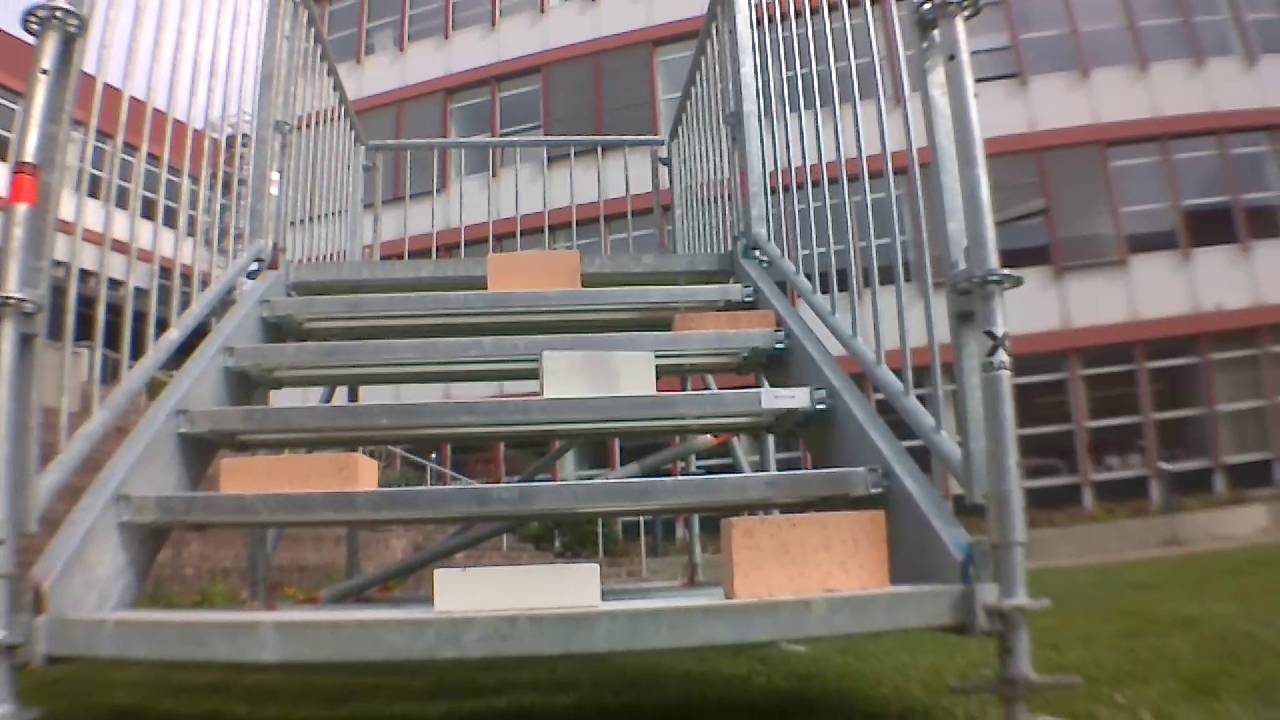brick: (721, 510, 889, 598), (434, 565, 598, 608), (220, 452, 376, 492), (540, 351, 654, 397), (488, 250, 579, 288), (672, 311, 773, 329)
edge: (48, 585, 959, 659), (117, 468, 892, 518), (176, 388, 830, 429), (222, 329, 789, 364), (258, 284, 753, 315), (291, 252, 732, 277)
stairs: (4, 4, 1061, 713)
steps: (37, 246, 965, 670)
